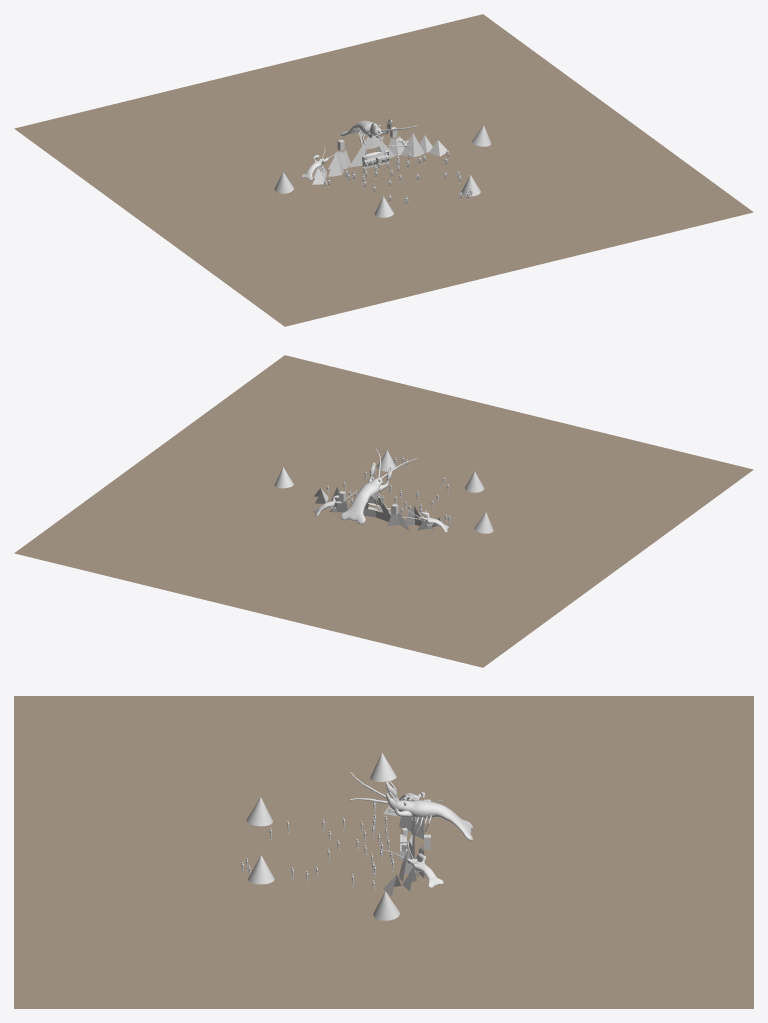
File: koura_stage_map_uvs.fbx
The picture shows the model from 3 angles, top to bottom: view 1: azimuth 30°, elevation 25°; view 2: azimuth 150°, elevation 25°; view 3: azimuth 270°, elevation 25°; orthographic projection. The views are drawn at different scales.
Visible parts, largest first — view 1: Ground, stage; view 2: Ground, stage, Koura_body; view 3: Ground, stage, Koura_body, mini koura 2.
Part boxes in pixels (x1=…): Ground: x1=14, y1=14, x2=753, y2=326; stage: x1=312, y1=132, x2=447, y2=184; Ground: x1=14, y1=355, x2=753, y2=667; stage: x1=314, y1=487, x2=449, y2=532; Koura_body: x1=340, y1=477, x2=382, y2=524; Ground: x1=14, y1=696, x2=753, y2=1008; stage: x1=383, y1=797, x2=424, y2=896; Koura_body: x1=396, y1=800, x2=473, y2=841; mini koura 2: x1=383, y1=840, x2=443, y2=887.
Bounding box in the file's own units: 10 × 1.01 × 10.
